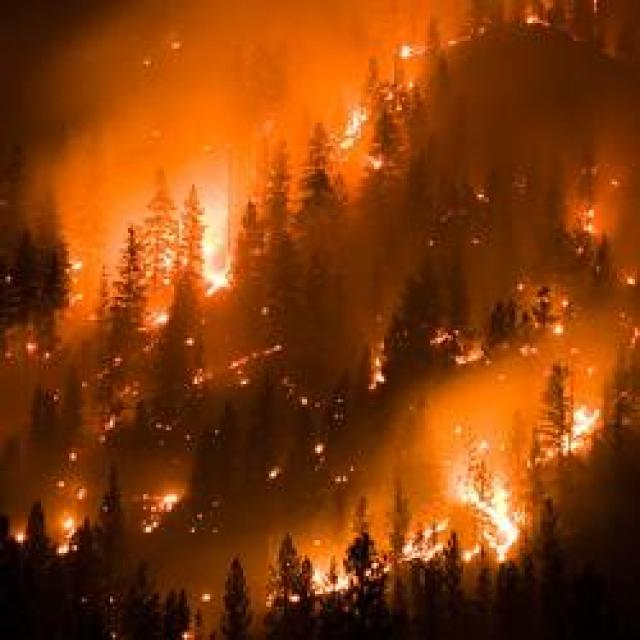fire: (67, 192, 252, 336), (282, 521, 447, 598), (453, 447, 538, 566), (543, 393, 621, 448), (127, 483, 185, 537), (24, 506, 92, 550), (319, 103, 372, 154)
